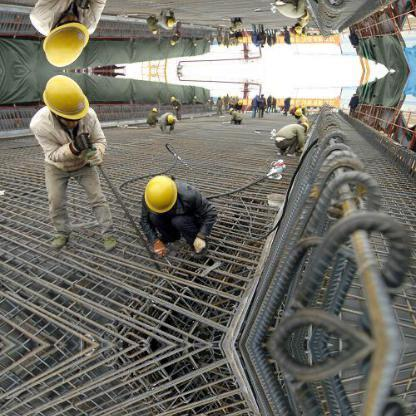helmet: (40, 75, 90, 122), (141, 170, 175, 213), (298, 119, 311, 135), (166, 112, 178, 128)
